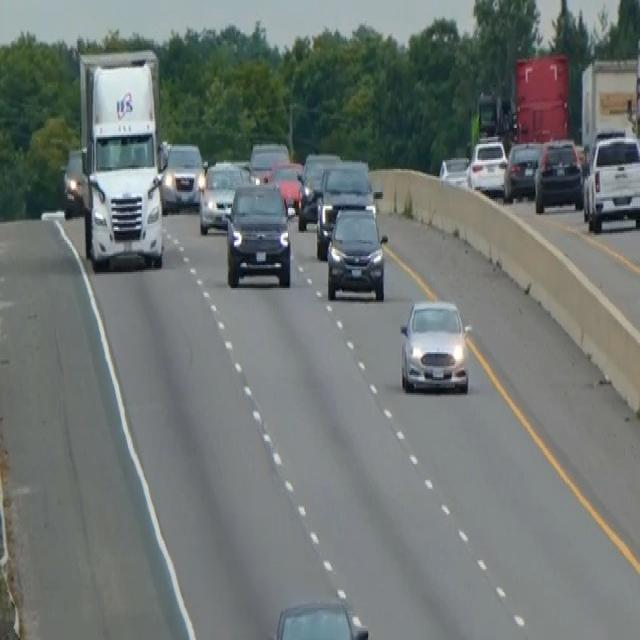car: (224, 180, 292, 288), (398, 295, 471, 395), (325, 201, 388, 300), (315, 160, 378, 258), (582, 131, 639, 233), (271, 596, 370, 638), (534, 137, 583, 213), (197, 158, 245, 235), (297, 151, 340, 229), (161, 140, 205, 210), (466, 135, 508, 196), (503, 138, 543, 202), (267, 160, 304, 213), (248, 139, 290, 183), (61, 146, 86, 218), (438, 154, 469, 187)
lorry: (76, 46, 167, 270)
